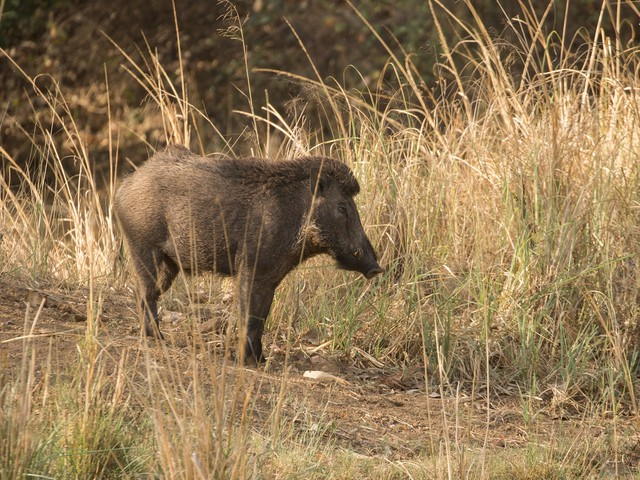Pig: (115, 141, 385, 359)
